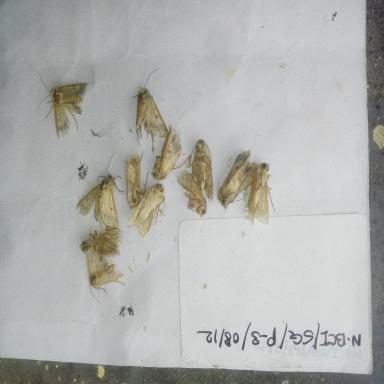abw: (73, 139, 124, 229), (33, 66, 91, 144), (128, 63, 174, 146), (214, 146, 263, 214), (79, 241, 129, 305), (239, 157, 278, 232), (146, 123, 192, 186), (126, 176, 170, 241), (183, 134, 220, 208), (173, 162, 214, 224), (76, 222, 126, 258), (118, 154, 144, 210)
